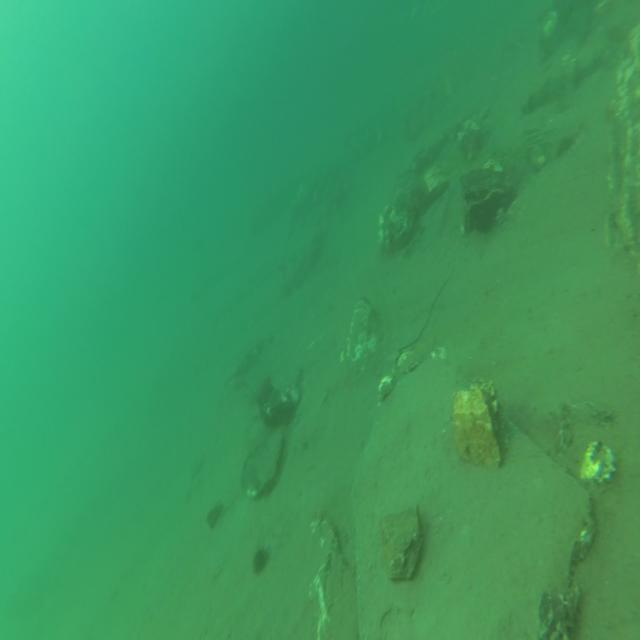echinus: (250, 545, 271, 575)
